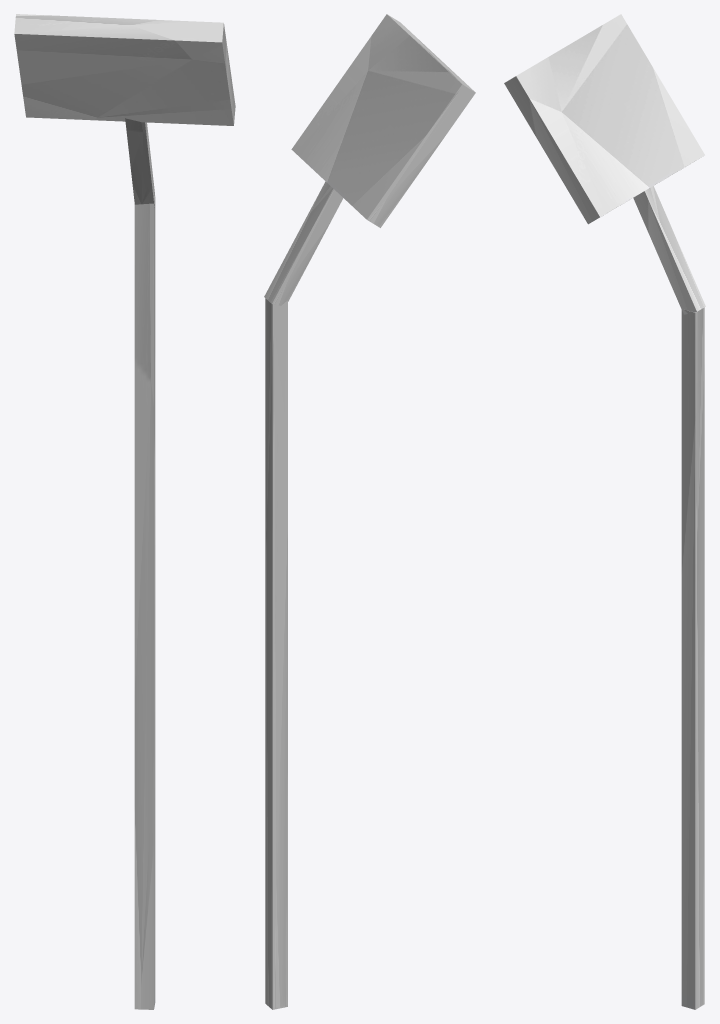
The model's file is Faro2.obj.
The picture shows the model from 3 angles, left to right: view 1: azimuth 30°, elevation 25°; view 2: azimuth 150°, elevation 25°; view 3: azimuth 270°, elevation 25°; orthographic projection. The views are drawn at different scales.
Parts seen in each view (by area): view 1: group135 pasted__pCube21, group135 pasted__pCube20, pasted__pasted__pCube20 pasted__group134 group135; view 2: group135 pasted__pCube21, group135 pasted__pCube20, pasted__pasted__pCube20 pasted__group134 group135; view 3: group135 pasted__pCube21, group135 pasted__pCube20, pasted__pasted__pCube20 pasted__group134 group135.
Boxes of the visible parts, x1,y1,x2,y2 form: group135 pasted__pCube21: (14, 14, 235, 125); group135 pasted__pCube20: (134, 195, 155, 1009); pasted__pasted__pCube20 pasted__group134 group135: (125, 118, 154, 207); group135 pasted__pCube21: (291, 14, 475, 227); group135 pasted__pCube20: (265, 298, 287, 1009); pasted__pasted__pCube20 pasted__group134 group135: (264, 181, 343, 305); group135 pasted__pCube21: (504, 14, 704, 224); group135 pasted__pCube20: (681, 307, 704, 1009); pasted__pasted__pCube20 pasted__group134 group135: (633, 186, 705, 314).
Bounding box in the file's own units: 2.75 × 12.95 × 2.58.
Materials: 1 (1 with a texture image).
